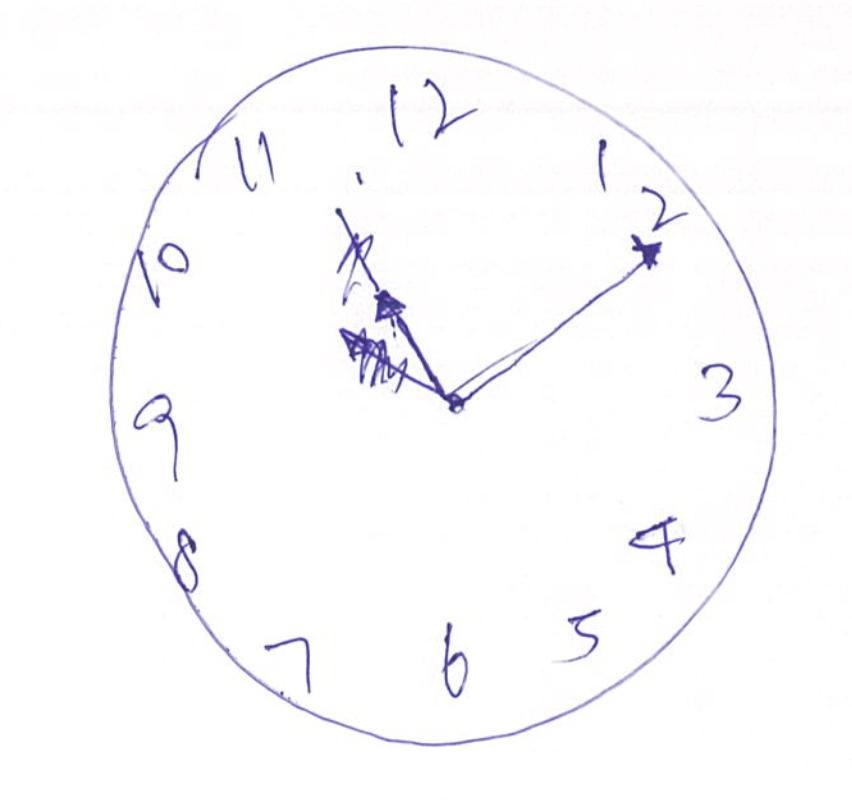1: (591, 132, 615, 201)
10: (132, 238, 193, 310)
11: (228, 130, 281, 198)
12: (384, 71, 480, 148)
2: (638, 185, 692, 235)
3: (694, 360, 742, 425)
4: (626, 517, 688, 580)
5: (558, 604, 605, 666)
6: (440, 619, 471, 704)
7: (255, 634, 319, 698)
8: (167, 525, 204, 596)
9: (128, 392, 182, 486)
contour: (102, 41, 783, 751)
top_left_arrow: (375, 287, 444, 395)
top_right_arrow: (459, 238, 667, 398)
